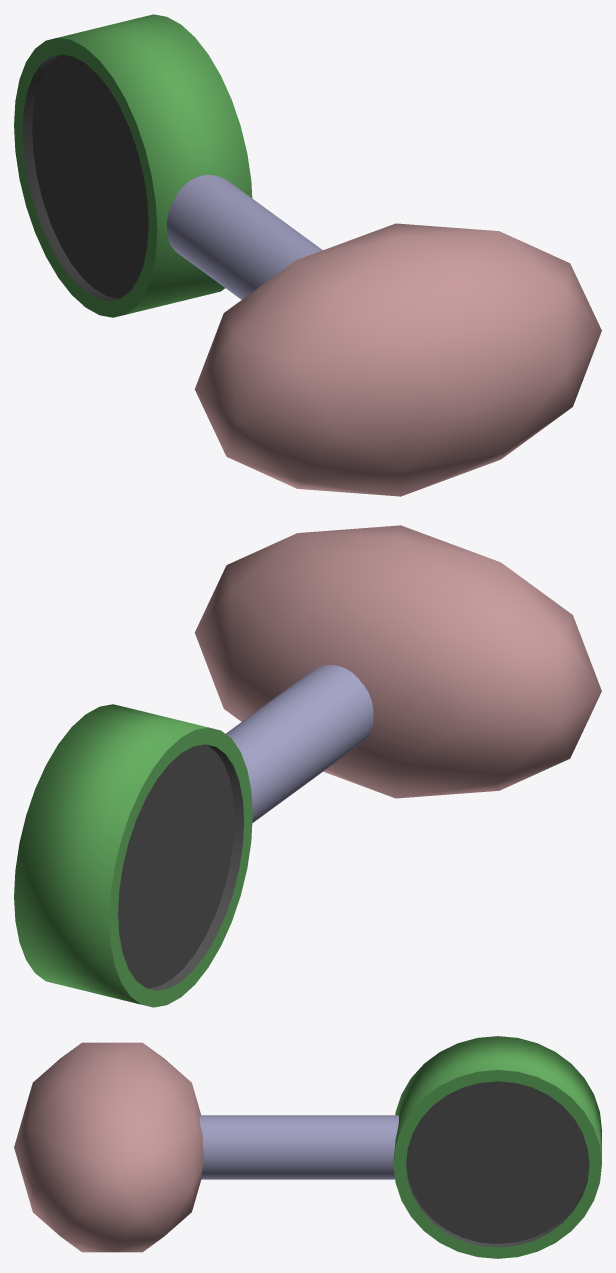
Rendered from SM_Switch_Multi_Toggle.fbx.
The picture shows the model from 3 angles, top to bottom: view 1: azimuth 30°, elevation 25°; view 2: azimuth 150°, elevation 25°; view 3: azimuth 270°, elevation 25°; orthographic projection. The views are drawn at different scales.
Parts seen in each view (by area): view 1: Toggle; view 2: Toggle; view 3: Toggle.
Boxes of the visible parts, left/top/right/bottom form: Toggle: left=14, top=14, right=601, bottom=496; Toggle: left=14, top=525, right=601, bottom=1007; Toggle: left=14, top=1036, right=601, bottom=1258.
Bounding box in the file's own units: 3.83 × 2.6 × 7.33.
